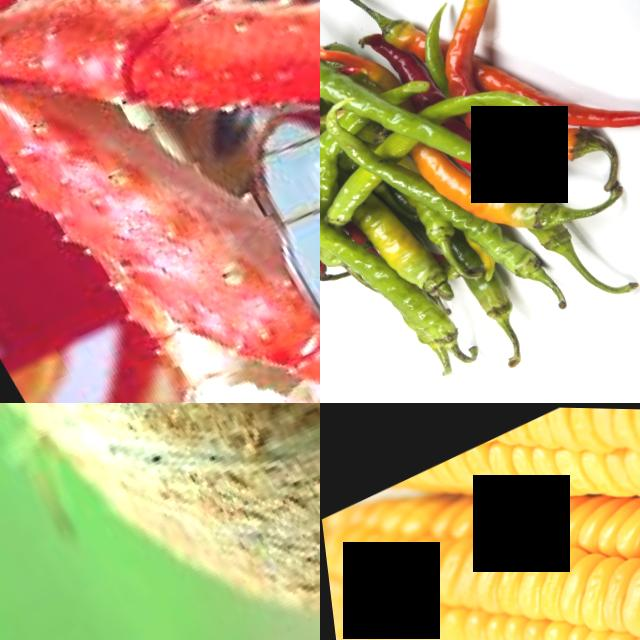chilli: (546, 40, 640, 165), (345, 192, 444, 307), (448, 158, 564, 249), (388, 0, 560, 53), (491, 106, 598, 187)
coconut: (0, 403, 320, 640)
corn: (320, 403, 640, 640)
crab: (0, 0, 320, 403), (0, 0, 320, 226)
